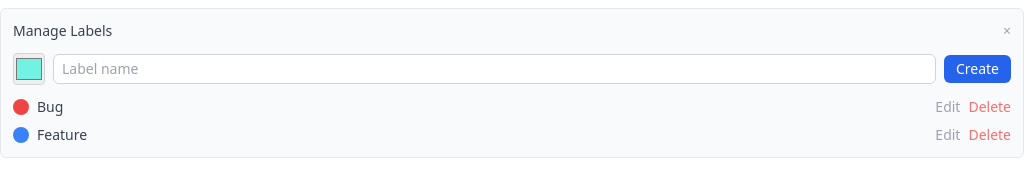
Test: LabelManager › cancels edit mode without saving
Click the button with aria-label "Edit Bug": click(948, 107) [935,97,960,117]
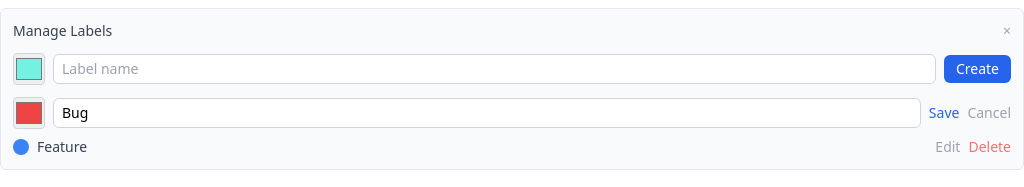
Replace the text in the field named "Edit label name" with "Changed": (487, 113) [53,98,921,128]
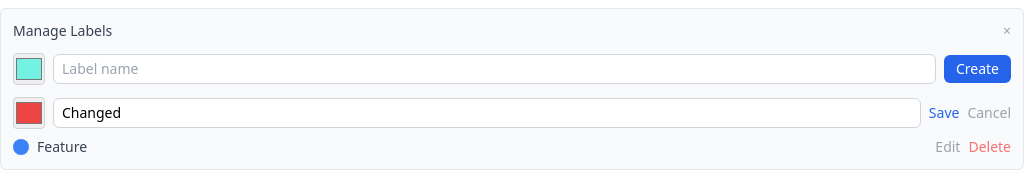
Click the button with aria-label "Cancel edit": click(989, 113) [967,103,1011,123]
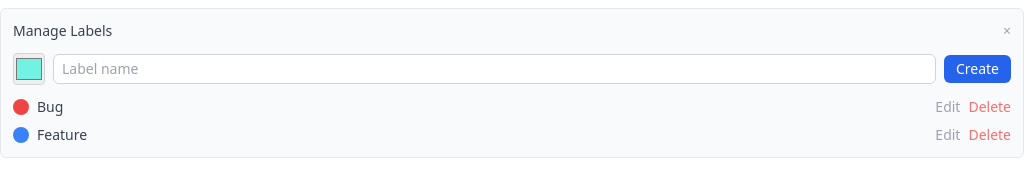
Expected: the text "Bug" is shown, [37,97,63,116]
